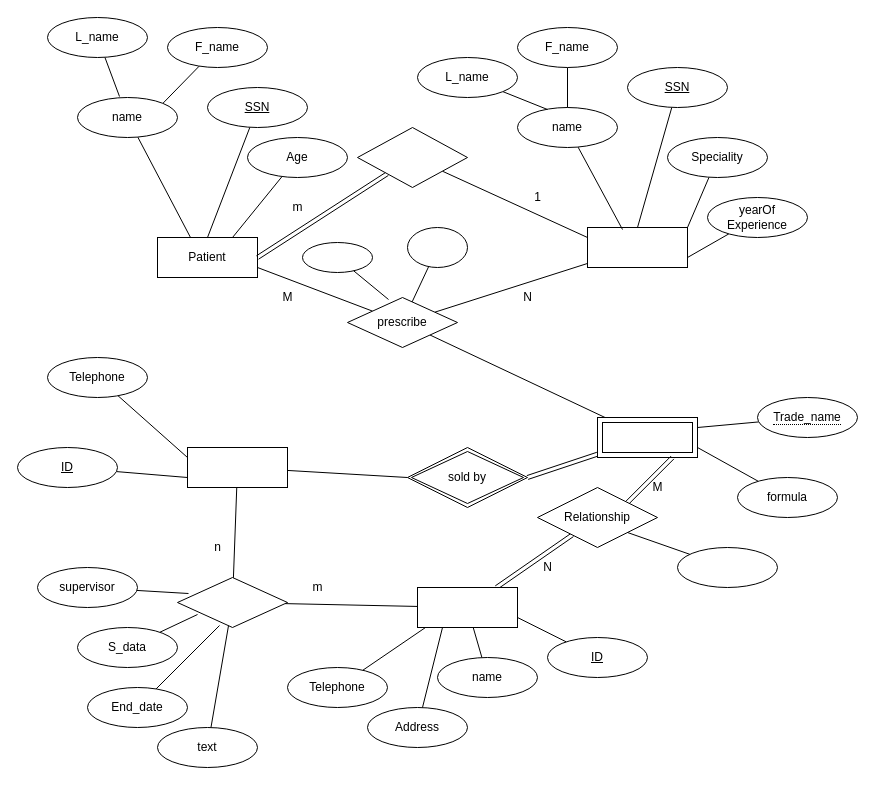
This 875x785 diagram has some shape labels left out. The shapes that lost their labels are listed below. From the top down, each one's centre as x and y in pixels, then its label:
At pixel 412 157: "physician".
At pixel 337 257: "data".
At pixel 437 247: "Quantity".
At pixel 637 247: "Doctor".
At pixel 647 437: "Drug".
At pixel 237 467: "Company".
At pixel 727 567: "price".
At pixel 232 602: "contract".
At pixel 467 607: "pharmacy".
